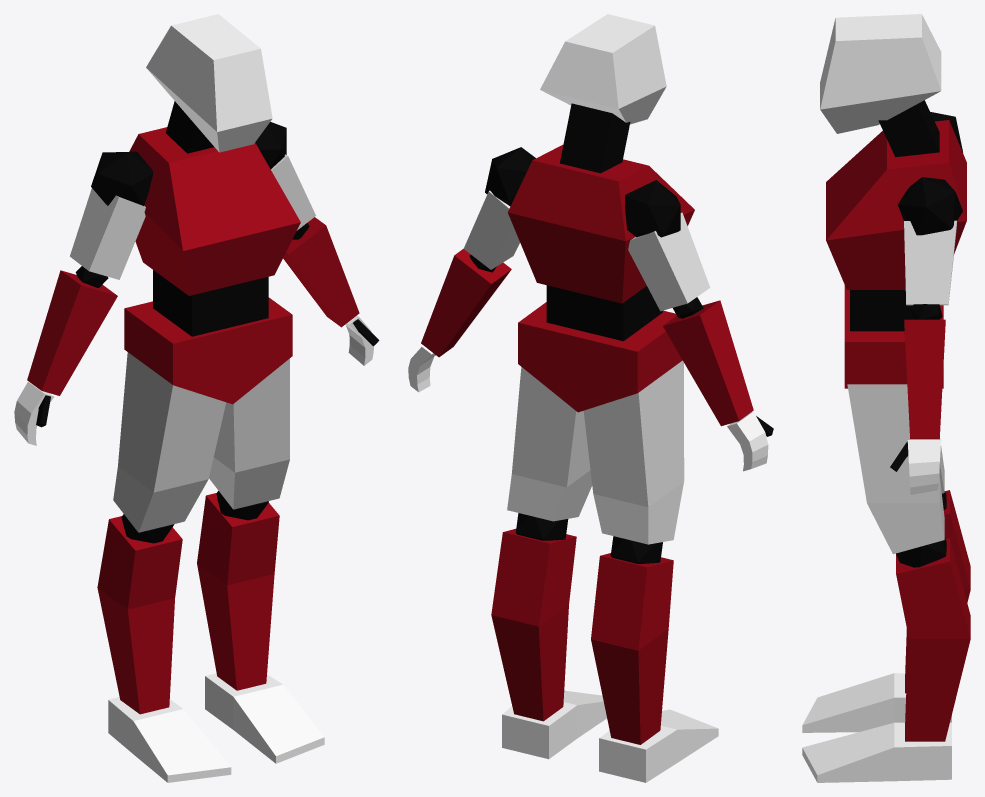
The model's file is low_poly_character.glb.
3 renders of one model, left to right at view 1: azimuth 30°, elevation 25°; view 2: azimuth 150°, elevation 25°; view 3: azimuth 270°, elevation 25°, orthographic.
Visible parts, largest first — view 1: Busto_17, Quadricipede_28, Polpaccio_29, Polpaccio.001_25, Head_19, Pelvico_20, Quadricipede.001_26, Piede_30, Piede.001_24, Avambraccio.001_6, Addome_16, Bicipide.001_7 (+9 smaller); view 2: Busto_17, Quadricipede_28, Polpaccio_29, Polpaccio.001_25, Pelvico_20, Head_19, Quadricipede.001_26, Avambraccio.001_6, Piede_30, Bicipide.001_7, Avambraccio_3, Addome_16 (+9 smaller); view 3: Busto_17, Head_19, Polpaccio.001_25, Quadricipede.001_26, Piede.001_24, Piede_30, Avambraccio_3, Pelvico_20, Bicipide_1, Spalla_0, Addome_16, Collo_18 (+4 smaller).
Part boxes in pixels (<box>): Busto_17: <box>129,127,300,295</box>; Quadricipede_28: <box>113,352,226,532</box>; Polpaccio_29: <box>97,516,182,714</box>; Polpaccio.001_25: <box>197,493,279,690</box>; Head_19: <box>146,14,272,152</box>; Pelvico_20: <box>124,297,292,404</box>; Quadricipede.001_26: <box>209,358,289,509</box>; Piede_30: <box>108,697,231,782</box>; Piede.001_24: <box>205,673,324,763</box>; Avambraccio.001_6: <box>27,270,117,395</box>; Addome_16: <box>153,270,268,336</box>; Bicipide.001_7: <box>70,188,145,279</box>; Busto_17: <box>507,145,694,303</box>; Quadricipede_28: <box>583,360,684,544</box>; Polpaccio_29: <box>591,553,673,744</box>; Polpaccio.001_25: <box>491,528,576,721</box>; Pelvico_20: <box>518,302,682,412</box>; Head_19: <box>540,14,666,124</box>; Quadricipede.001_26: <box>507,367,592,521</box>; Avambraccio.001_6: <box>663,300,753,426</box>; Piede_30: <box>599,709,718,782</box>; Bicipide.001_7: <box>628,212,710,311</box>; Avambraccio_3: <box>421,249,511,357</box>; Addome_16: <box>546,285,662,341</box>; Busto_17: <box>826,120,966,289</box>; Head_19: <box>820,14,941,133</box>; Polpaccio.001_25: <box>896,538,970,741</box>; Quadricipede.001_26: <box>847,384,944,554</box>; Piede.001_24: <box>802,722,951,782</box>; Piede_30: <box>802,673,951,732</box>; Avambraccio_3: <box>904,319,945,438</box>; Pelvico_20: <box>844,285,943,388</box>; Bicipide_1: <box>904,220,956,305</box>; Spalla_0: <box>898,177,962,235</box>; Addome_16: <box>850,290,913,331</box>; Collo_18: <box>878,100,939,157</box>.
Bounding box in the file's own units: 1.29 × 2.51 × 0.5332.
